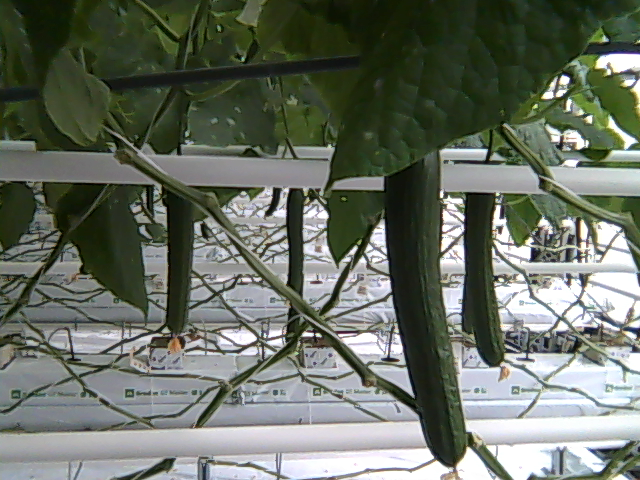concombre: (383, 149, 472, 480)
